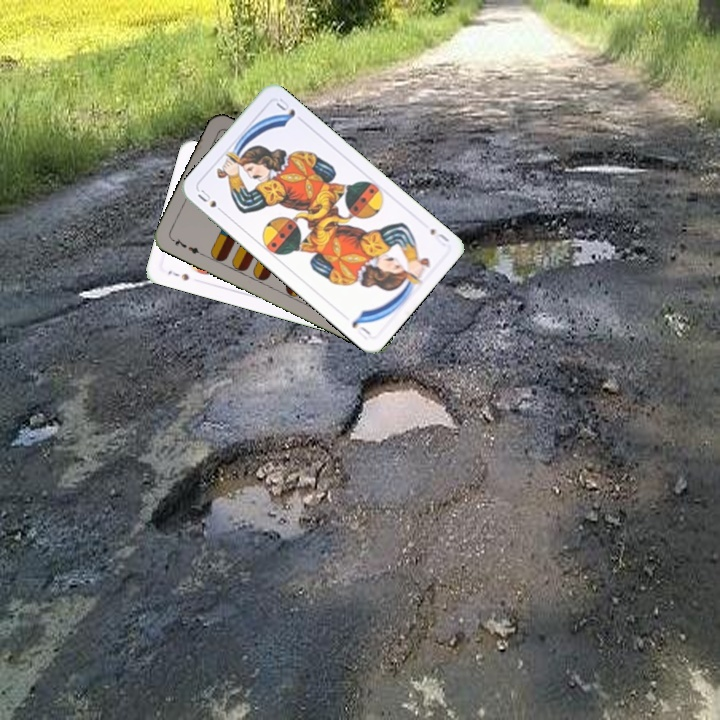E7: (168, 235, 206, 258)
S7: (164, 266, 192, 283)
SU: (193, 185, 228, 217), (426, 224, 452, 249)
